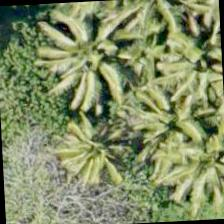Kelapa_Sawit: (60, 8, 156, 104), (55, 119, 150, 214), (135, 68, 223, 164), (156, 137, 223, 221)
